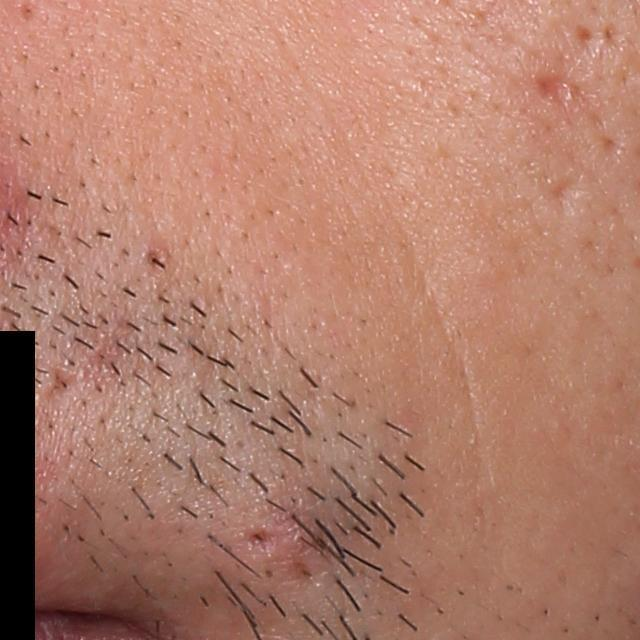atrophic_scar: (528, 71, 580, 113), (35, 357, 76, 406), (542, 169, 580, 215), (596, 126, 633, 161), (572, 22, 598, 47)
